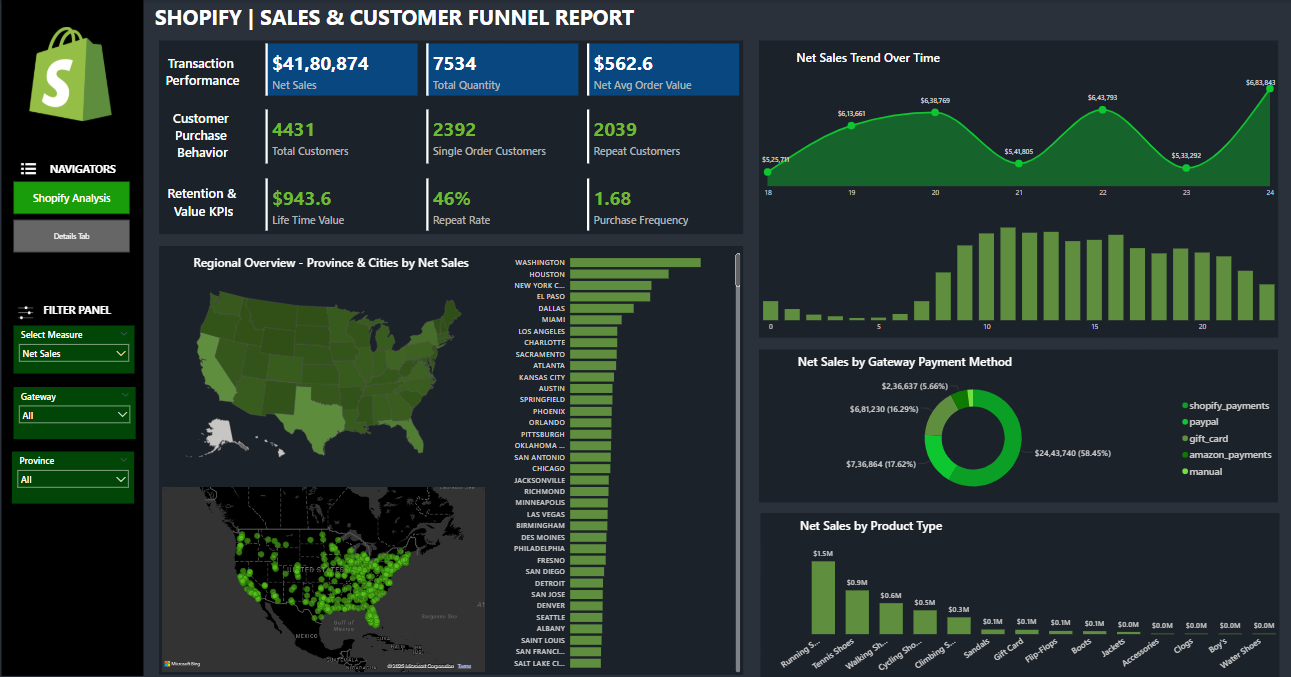

This screenshot's page, from the dashboard's own definition file:
{"tool":"powerbi","page":{"name":"Shopify Analysis","canvas":[2300,1208],"ordinal":0},"visuals":[{"type":"shape","box":[2.5,0,252.5,1202.5],"z":0},{"type":"textbox","box":[265.1,0,874.8,72.9],"z":1000},{"type":"shape","box":[282.2,71.3,1039.6,344.6],"z":2000},{"type":"cardVisual","fields":{"Data":["shopify_sales.Net Sales","shopify_sales.Total Quantity","shopify_sales.Net Avg Order Value"]},"box":[466.3,71.3,855.5,104],"z":3000},{"type":"card","fields":{"Values":["shopify_sales.Transaction Perf"]},"box":[280.7,72,159,104.3],"z":4000},{"type":"cardVisual","fields":{"Data":["shopify_sales.Total Customers","shopify_sales.Single Order Customers","shopify_sales.Repeat Customers"]},"box":[466.3,190.1,855.5,106.9],"z":5000},{"type":"card","fields":{"Values":["shopify_sales.Customer Purchase Behavior"]},"box":[280.7,176.4,159,114.3],"z":6000},{"type":"cardVisual","fields":{"Data":["shopify_sales.Life Time Value","shopify_sales.Repeat Rate","shopify_sales.Purchase Frequency"]},"box":[466.3,311.9,855.5,104],"z":7000},{"type":"card","fields":{"Values":["shopify_sales.Retention & Value KPIs"]},"box":[282.2,300,157.4,115.8],"z":8000},{"type":"shape","box":[282.2,436.6,1039.6,763.4],"z":9000},{"type":"slicer","fields":{"Values":["Select Measure.Select Measure"]},"box":[25,580,215,85],"z":10000},{"type":"shapeMap","fields":{"Value":["shopify_sales.Net Sales"],"Category":["shopify_sales.Billing Address Province"]},"box":[282.2,496,585.2,338],"z":11000},{"type":"map","fields":{"Category":["shopify_sales.Location"]},"box":[282.2,861.4,585.2,338.6],"z":12000},{"type":"clusteredBarChart","fields":{"Y":["shopify_sales.Net Sales"],"Category":["shopify_sales.CITY"]},"box":[894.1,436.6,427.7,763.4],"z":13000},{"type":"card","fields":{"Values":["shopify_sales.Map Title"]},"box":[282.2,439.6,611.9,56.4],"z":14000},{"type":"shape","box":[1351.5,71.3,923.8,528.7],"z":15000},{"type":"areaChart","fields":{"Y":["shopify_sales.Net Sales"],"Category":["shopify_sales.Invoice Date.Variation.Date Hierarchy.Day"]},"box":[1351.5,127.7,923.8,231.7],"z":16000},{"type":"columnChart","fields":{"Y":["shopify_sales.Net Sales"],"Category":["shopify_sales.Hour"]},"box":[1351.5,374.3,923.8,225.7],"z":17000},{"type":"card","fields":{"Values":["shopify_sales.Trend Title"]},"box":[1345.6,74.3,398,56.4],"z":18000},{"type":"shape","box":[1350.4,621.8,923.4,272.2],"z":19000},{"type":"shape","box":[1353.5,911.6,923.3,297.7],"z":20000},{"type":"donutChart","fields":{"Y":["shopify_sales.Net Sales"],"Category":["shopify_sales.Gateway"]},"box":[1354.5,665.4,920.8,228.7],"z":21000},{"type":"card","fields":{"Values":["shopify_sales.Gatewat Title"]},"box":[1354.5,620.8,507.9,44.6],"z":22000},{"type":"columnChart","fields":{"Y":["shopify_sales.Net Sales"],"Category":["shopify_sales.Product Type"]},"box":[1380,955,920,252.5],"z":23000},{"type":"card","fields":{"Values":["shopify_sales.Product Title"]},"box":[1355,912.5,387.5,45],"z":24000},{"type":"image","box":[30,42.5,192.5,177.5],"z":25000},{"type":"slicer","fields":{"Values":["shopify_sales.Gateway"]},"box":[25,687.5,217.5,92.5],"z":26000},{"type":"slicer","fields":{"Values":["shopify_sales.Billing Address Province"]},"box":[22.5,802.5,217.5,92.5],"z":27000},{"type":"pageNavigator","box":[25,322.5,207.5,127.5],"z":28000},{"type":"image","box":[30,277.5,42.5,45],"z":29000},{"type":"textbox","box":[72.5,282.5,150,40],"z":30000},{"type":"image","box":[25,535,42.5,45],"z":31000},{"type":"textbox","box":[72.5,535,150,45],"z":32000}]}

Visuals, with their boxes on the page's 2300x1208 design canvas (x1, y1, x2, y2). These are canvas units, not pixel positions in the 1291x677 screenshot, which may show the page scaled, cropped or inside an application window:
shape: l=2, t=0, r=255, b=1202
textbox: l=265, t=0, r=1140, b=73
shape: l=282, t=71, r=1322, b=416
cardVisual - shopify_sales.Net Sales x shopify_sales.Total Quantity: l=466, t=71, r=1322, b=175
card - shopify_sales.Transaction Perf: l=281, t=72, r=440, b=176
cardVisual - shopify_sales.Total Customers x shopify_sales.Single Order Customers: l=466, t=190, r=1322, b=297
card - shopify_sales.Customer Purchase Behavior: l=281, t=176, r=440, b=291
cardVisual - shopify_sales.Life Time Value x shopify_sales.Repeat Rate: l=466, t=312, r=1322, b=416
card - shopify_sales.Retention & Value KPIs: l=282, t=300, r=440, b=416
shape: l=282, t=437, r=1322, b=1200
slicer - Select Measure.Select Measure: l=25, t=580, r=240, b=665
shapeMap - shopify_sales.Net Sales x shopify_sales.Billing Address Province: l=282, t=496, r=867, b=834
map - shopify_sales.Location: l=282, t=861, r=867, b=1200
clusteredBarChart - shopify_sales.Net Sales x shopify_sales.CITY: l=894, t=437, r=1322, b=1200
card - shopify_sales.Map Title: l=282, t=440, r=894, b=496
shape: l=1352, t=71, r=2275, b=600
areaChart - shopify_sales.Net Sales x shopify_sales.Invoice Date.Variation.Date Hierarchy.Day: l=1352, t=128, r=2275, b=359
columnChart - shopify_sales.Net Sales x shopify_sales.Hour: l=1352, t=374, r=2275, b=600
card - shopify_sales.Trend Title: l=1346, t=74, r=1744, b=131
shape: l=1350, t=622, r=2274, b=894
shape: l=1354, t=912, r=2277, b=1209
donutChart - shopify_sales.Net Sales x shopify_sales.Gateway: l=1354, t=665, r=2275, b=894
card - shopify_sales.Gatewat Title: l=1354, t=621, r=1862, b=665
columnChart - shopify_sales.Net Sales x shopify_sales.Product Type: l=1380, t=955, r=2300, b=1208
card - shopify_sales.Product Title: l=1355, t=912, r=1742, b=958
image: l=30, t=42, r=222, b=220
slicer - shopify_sales.Gateway: l=25, t=688, r=242, b=780
slicer - shopify_sales.Billing Address Province: l=22, t=802, r=240, b=895
pageNavigator: l=25, t=322, r=232, b=450
image: l=30, t=278, r=72, b=322
textbox: l=72, t=282, r=222, b=322
image: l=25, t=535, r=68, b=580
textbox: l=72, t=535, r=222, b=580
